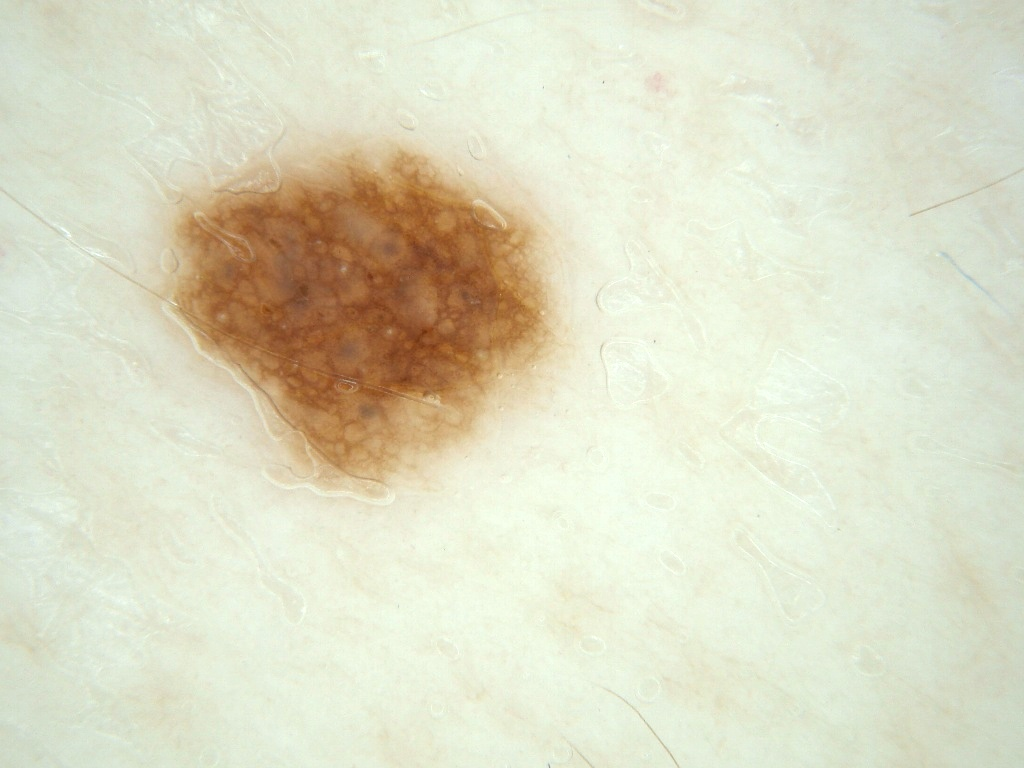Detected Lesion: (155, 136, 556, 500)
